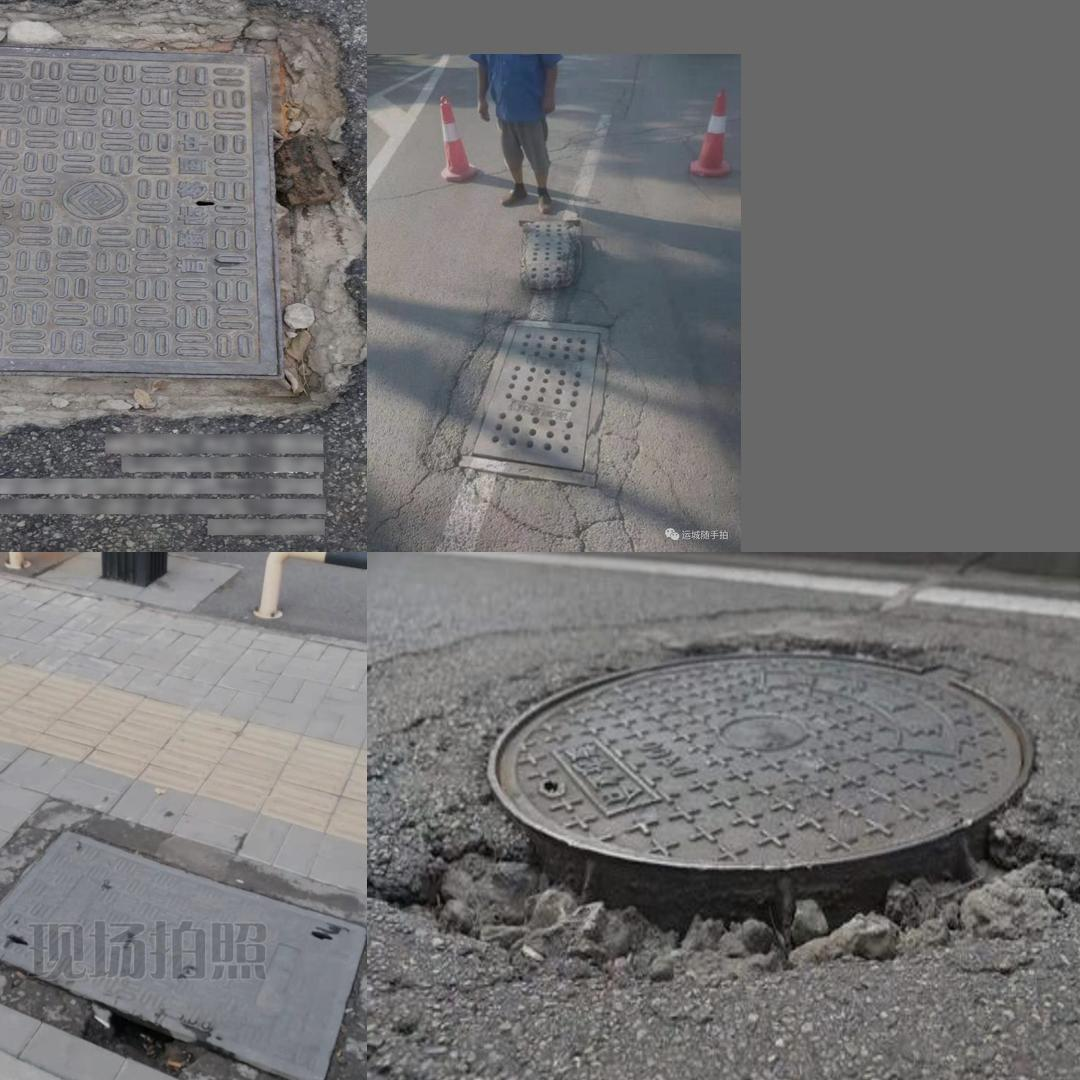circle: (381, 624, 1080, 1022), (0, 13, 337, 418), (0, 797, 367, 1080), (415, 299, 656, 534)
